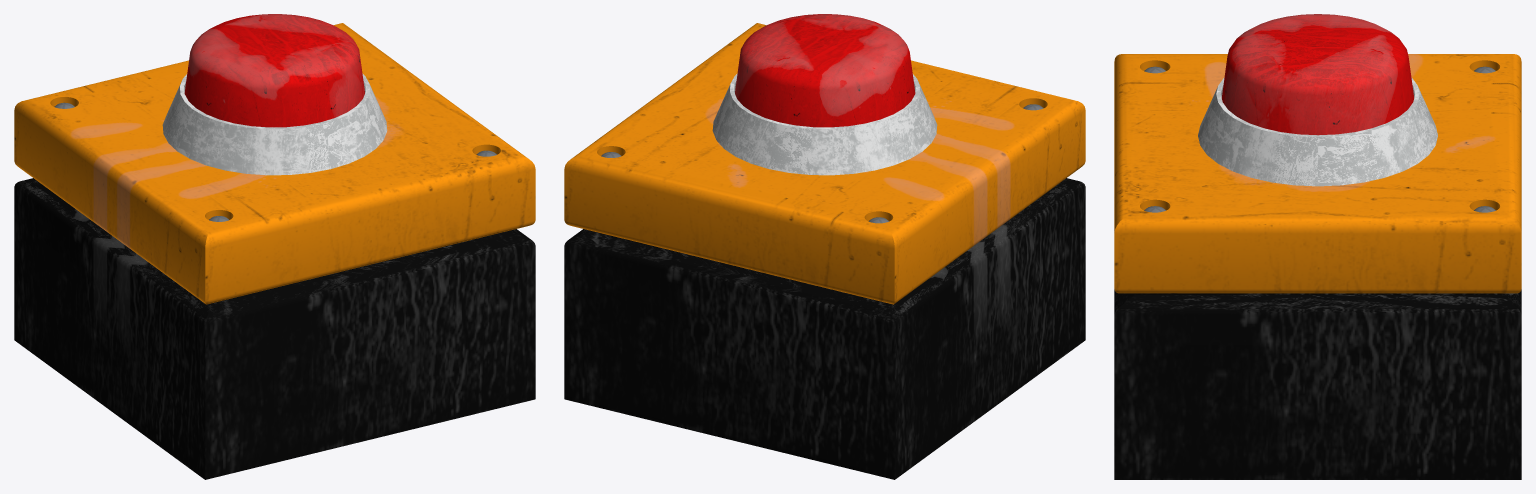
Rendered from industrial_button.glb.
The picture shows the model from 3 angles, left to right: view 1: azimuth 30°, elevation 25°; view 2: azimuth 150°, elevation 25°; view 3: azimuth 270°, elevation 25°; orthographic projection. The views are drawn at different scales.
Visible parts, largest first — view 1: Cube, Cylinder; view 2: Cube, Cylinder; view 3: Cube, Cylinder, Sphere.
Boxes of the visible parts, left/top/right/bottom form: Cube: left=14, top=23, right=535, bottom=479; Cylinder: left=162, top=14, right=387, bottom=175; Cube: left=564, top=23, right=1085, bottom=479; Cylinder: left=712, top=14, right=937, bottom=175; Cube: left=1114, top=54, right=1521, bottom=479; Cylinder: left=1198, top=14, right=1437, bottom=186; Sphere: left=1144, top=66, right=1495, bottom=212.
Size of the model in its own units: 0.1789 by 0.1698 by 0.1789.
Materials: 4 (4 with a texture image).
